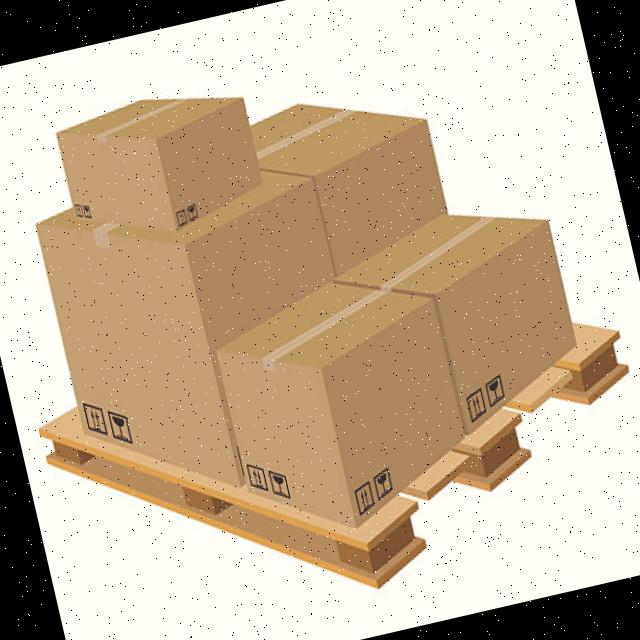Wooden-Pallets: (27, 302, 633, 598)
